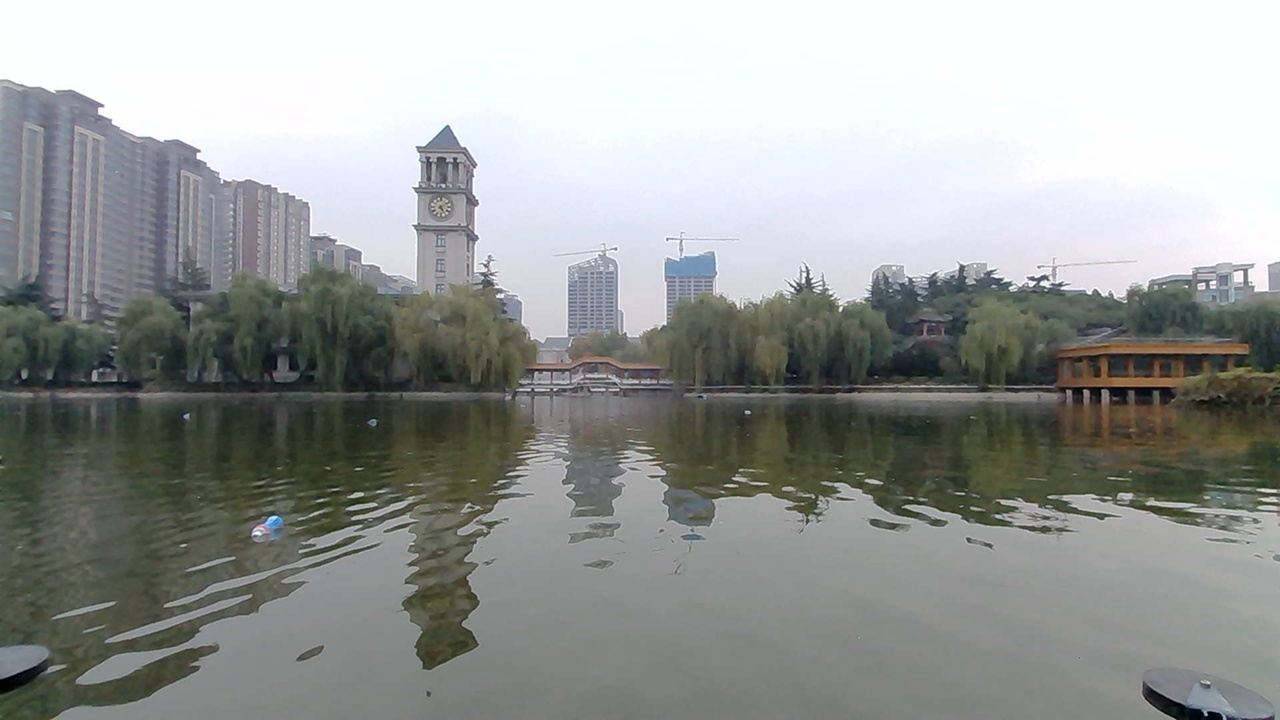bottle: (220, 503, 305, 543), (165, 402, 201, 426), (353, 409, 387, 431), (728, 400, 764, 419)
